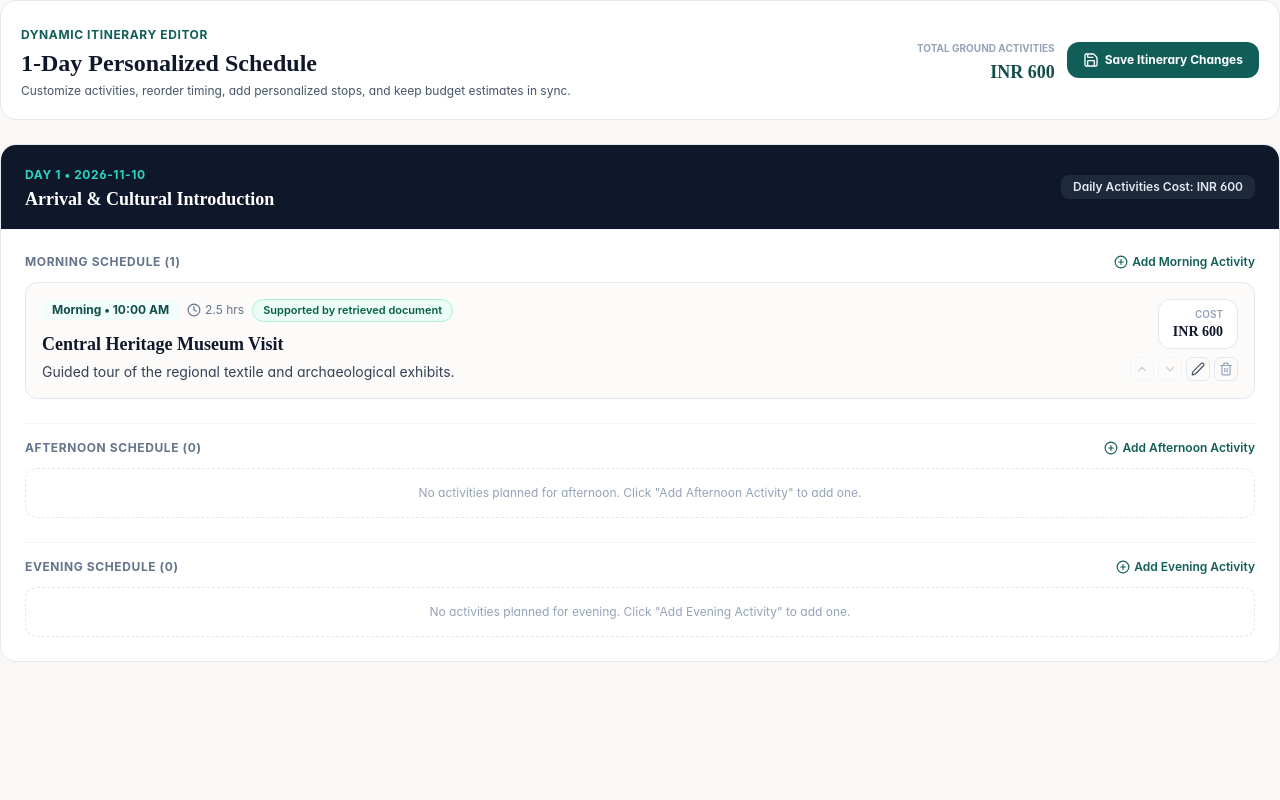
Scenario: ItineraryEditor Component › allows adding a new activity to afternoon slot
The width and height of the screenshot is (1280, 800).
Click the button "Add Afternoon Activity": (1180, 448) [1104,440,1255,456]
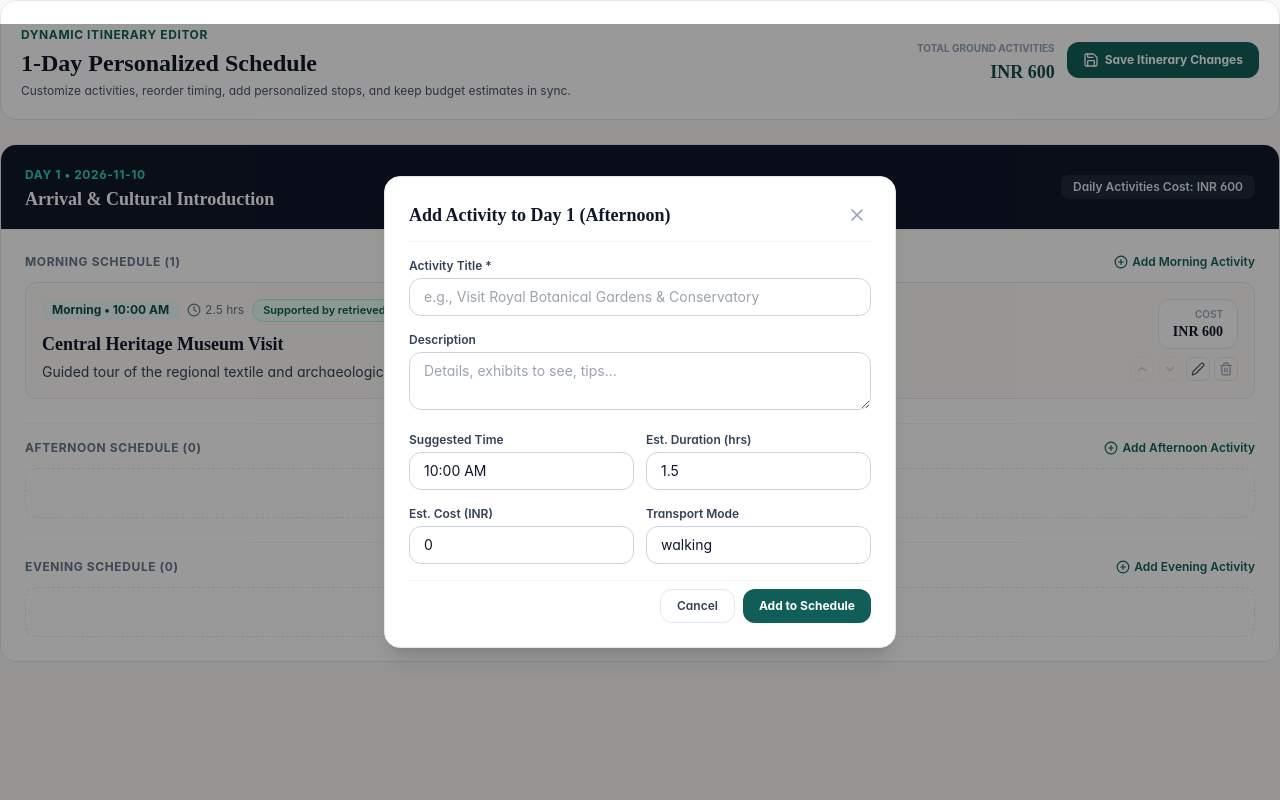
Expected: the heading "Add Activity to Day 1 (Afternoon)" is shown, [409,201,670,229]
In the field with placeholder "e.g., Visit Royal Botanical Gardens & Conservatory": (640, 297) [409,278,871,316], type "Old Town Walking Tour"
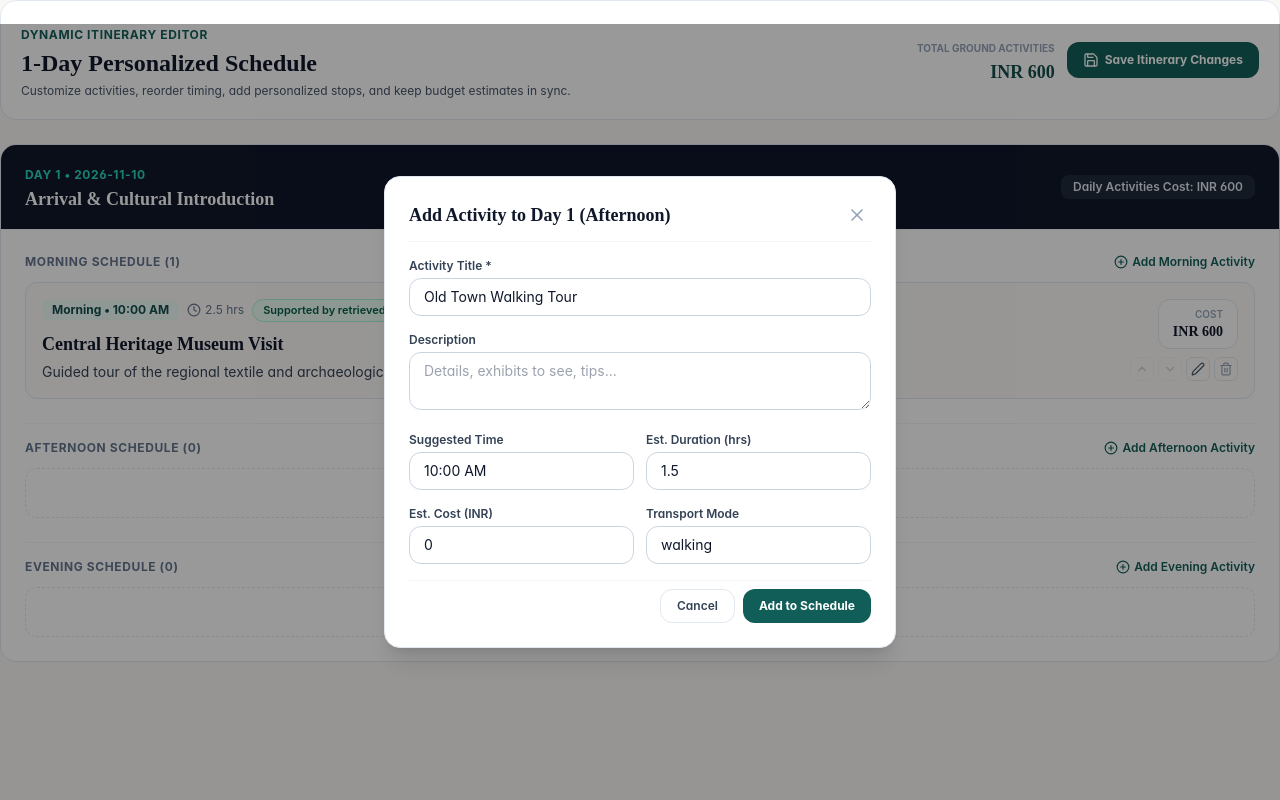
Click the button "Add to Schedule": (807, 606) [743,589,871,623]
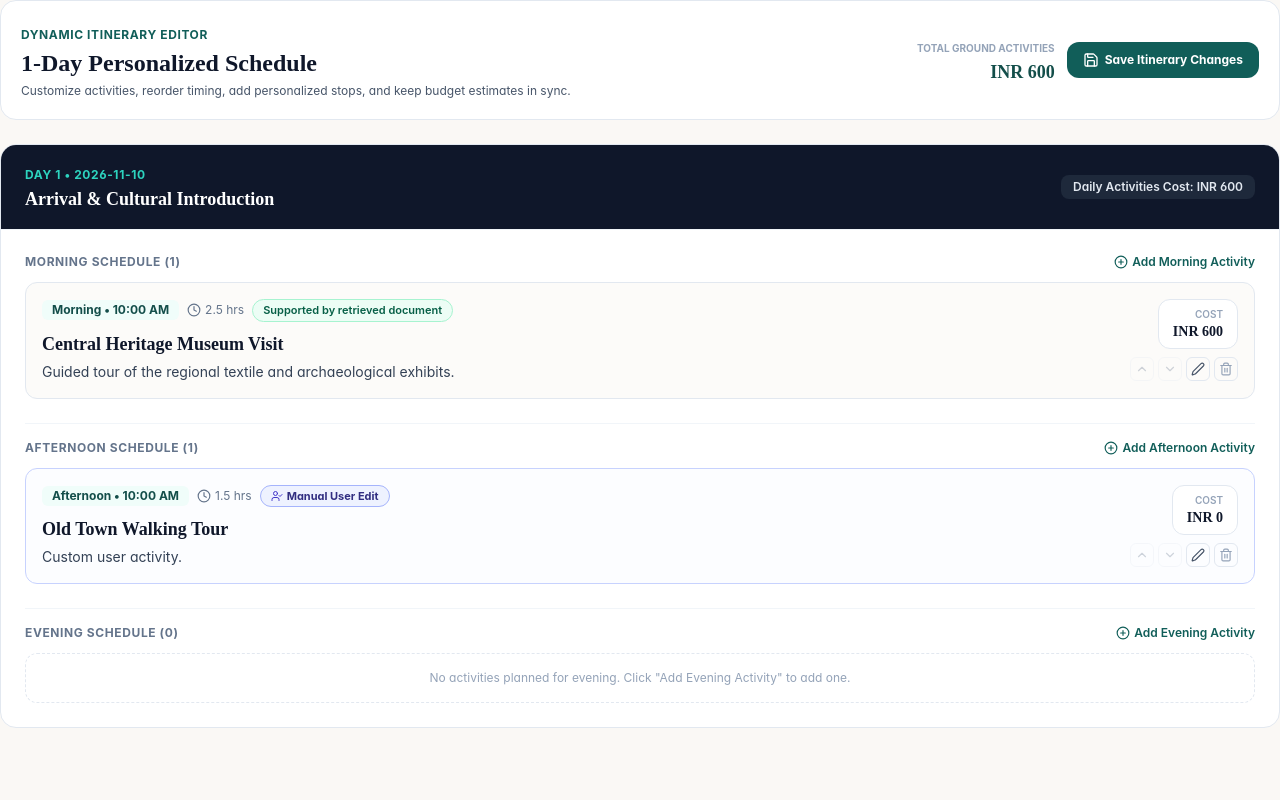
Expected: the heading "Old Town Walking Tour" is shown, [42,519,228,539]
Expected: the text "Manual User Edit" is shown, [287,488,379,504]
